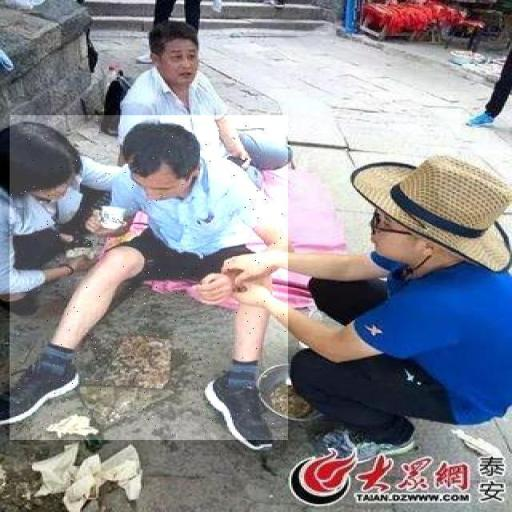Fall: (10, 115, 288, 440)
